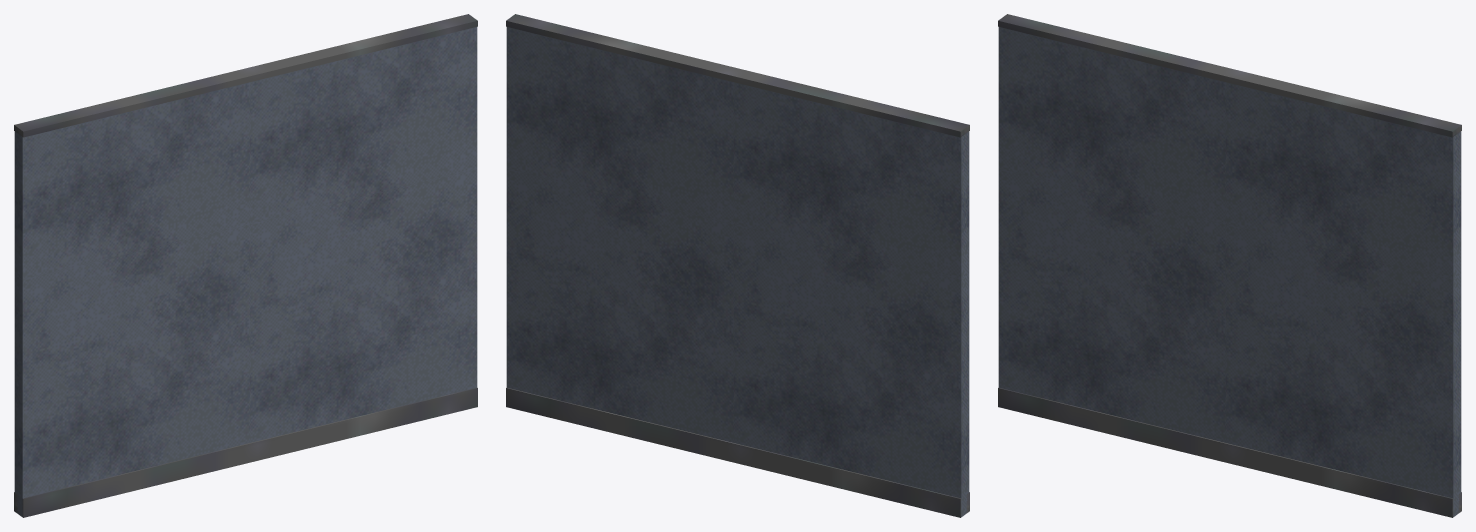
The model's file is cubicle_panel.fbx.
The picture shows the model from 3 angles, left to right: view 1: azimuth 30°, elevation 25°; view 2: azimuth 150°, elevation 25°; view 3: azimuth 330°, elevation 25°; orthographic projection.
Visible parts, largest first — view 1: cubicle_panel; view 2: cubicle_panel; view 3: cubicle_panel.
Boxes of the visible parts, x1,y1,x2,y2 form: cubicle_panel: (14, 14, 477, 517); cubicle_panel: (506, 14, 969, 517); cubicle_panel: (998, 14, 1461, 517).
Size of the model in its own units: 2 by 1.62 by 0.07.
